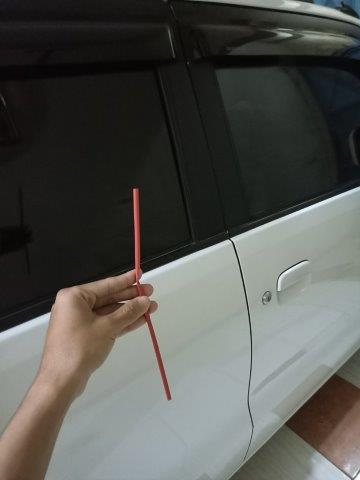sedotan: (133, 189, 170, 397)
